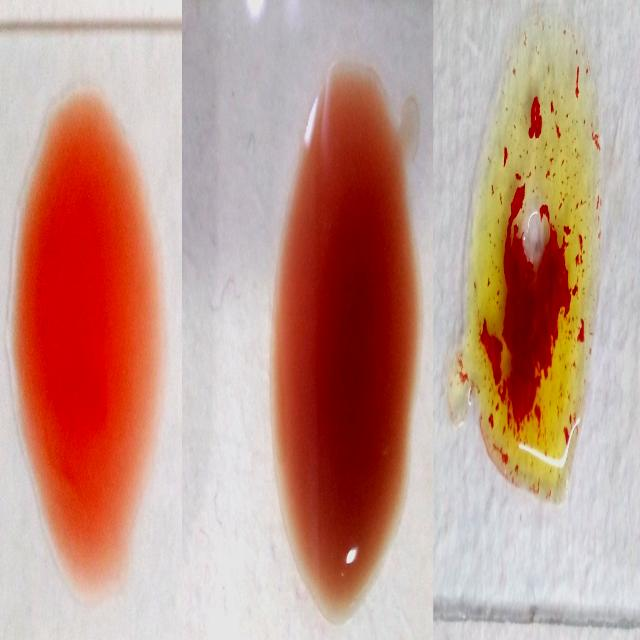B: (470, 27, 600, 490)
